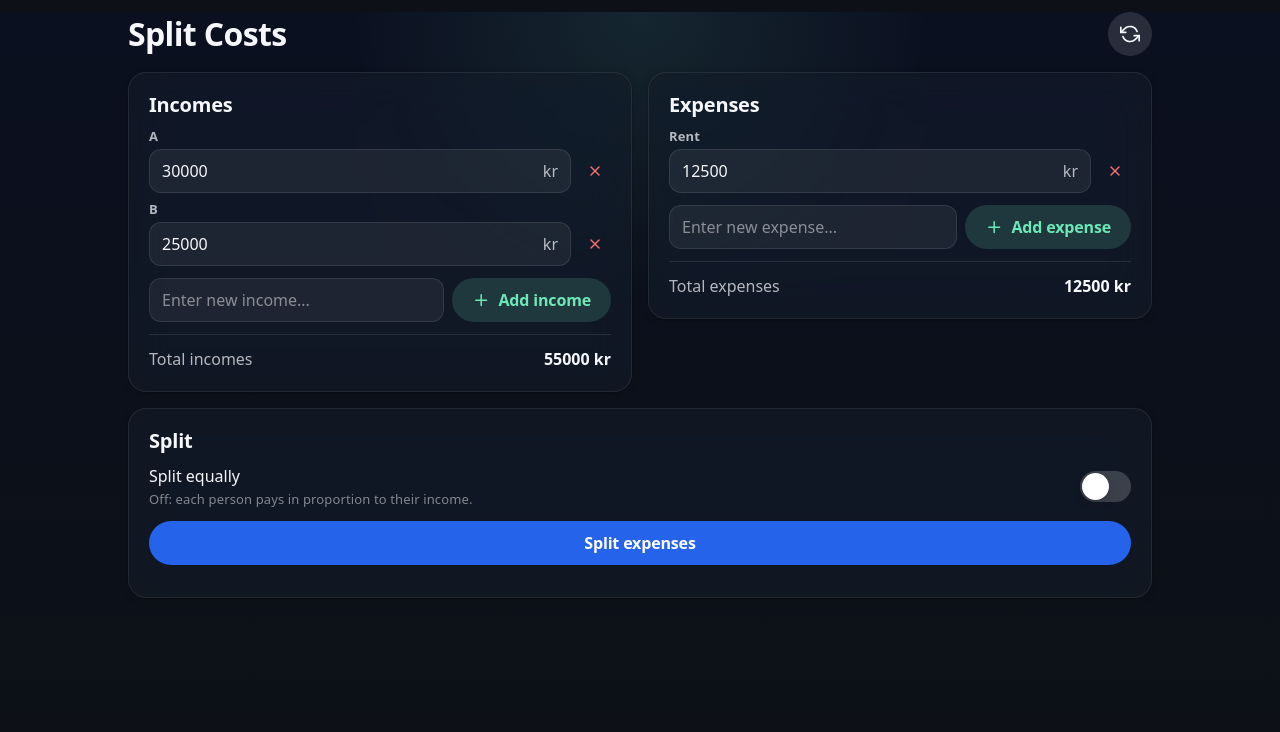
it: CostCalculator › splitting › uses precise percentages rather than rounded shares
This screenshot has width=1280, height=732.
What coordinates should you click on to do the following:
click the button "Split expenses"
I would click on:
 (640, 543)
Its box is [149,521,1131,565].
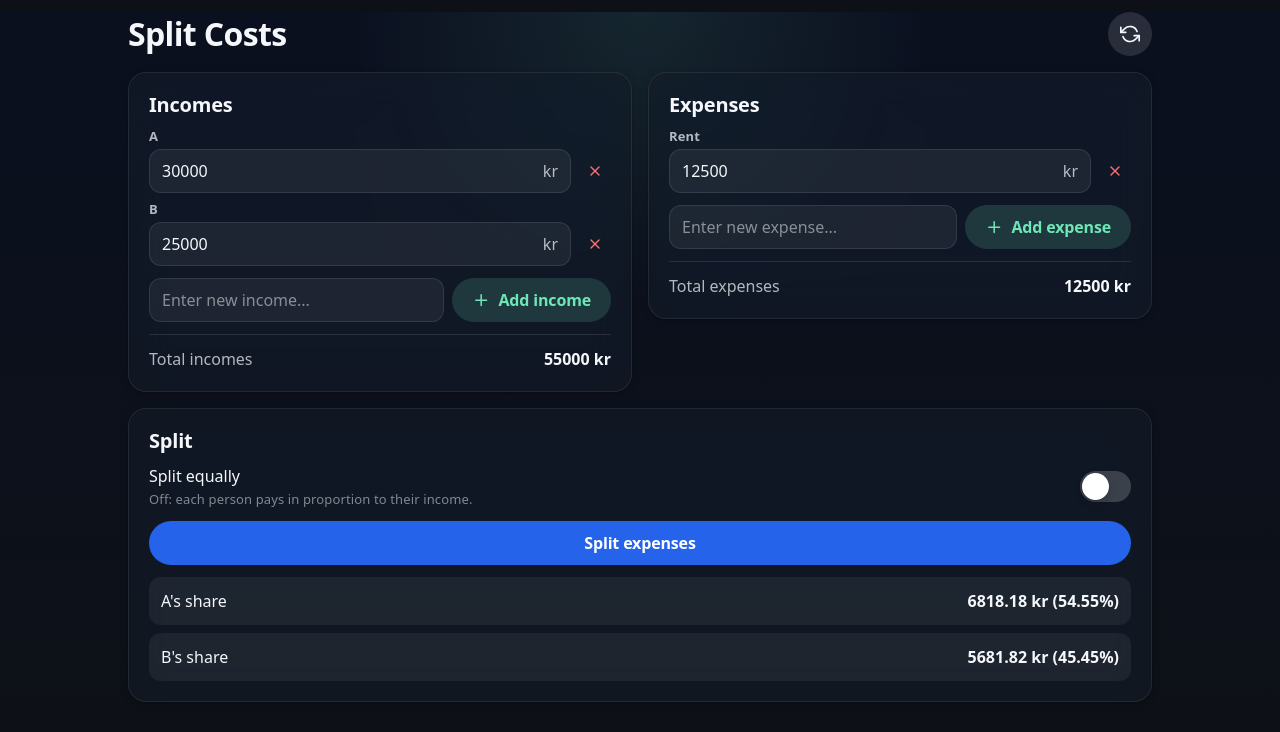
Expected: the list item "A's share 6818.18 kr (54.55%)" is shown, [149,577,1131,625]
Expected: the list item "B's share 5681.82 kr (45.45%)" is shown, [149,633,1131,681]
